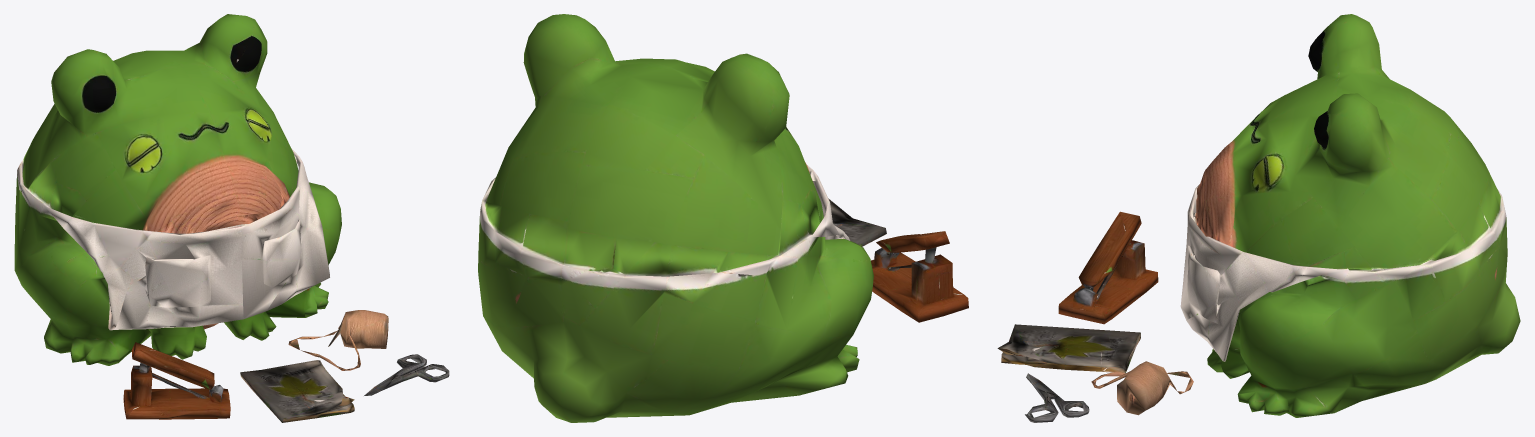
File: conteuse.glb
3 renders of one model, left to right at view 1: azimuth 30°, elevation 25°; view 2: azimuth 150°, elevation 25°; view 3: azimuth 270°, elevation 25°, orthographic. The views are drawn at different scales.
Parts seen in each view (by area): view 1: mesh_node; view 2: mesh_node; view 3: mesh_node.
Boxes of the visible parts, x1,y1,x2,y2 form: mesh_node: [14, 14, 449, 422]; mesh_node: [478, 14, 968, 422]; mesh_node: [997, 14, 1520, 422].
Bounding box in the file's own units: 1.35 × 1.17 × 1.9.
1 material, 1 textured.
